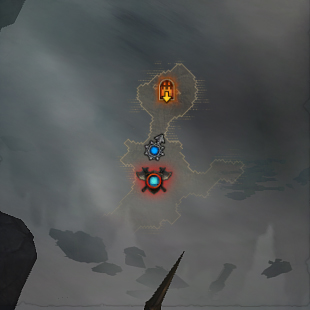Exit: (157, 75, 176, 104)
